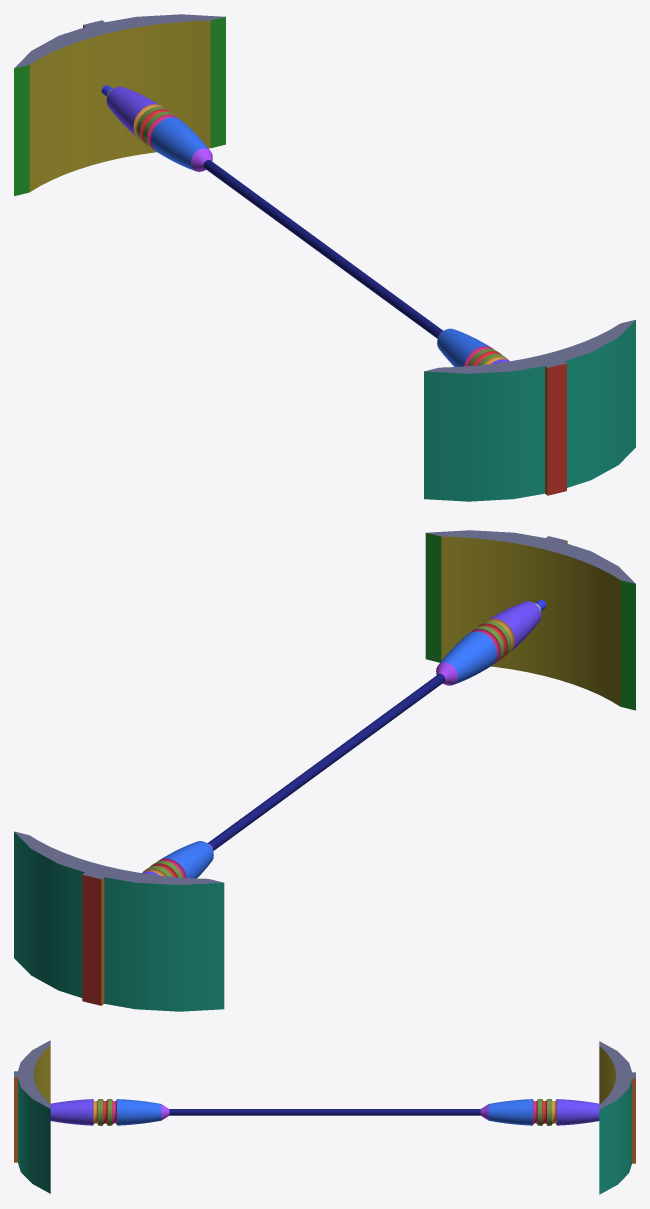
The model's file is iter2barColor.fbx.
3 renders of one model, top to bottom at view 1: azimuth 30°, elevation 25°; view 2: azimuth 150°, elevation 25°; view 3: azimuth 270°, elevation 25°, orthographic. The views are drawn at different scales.
Parts seen in each view (by area): view 1: Model; view 2: Model; view 3: Model.
Part boxes in pixels (x1,y1,x2,y2): Model: [14, 14, 635, 501]; Model: [14, 530, 635, 1011]; Model: [14, 1040, 635, 1194].
Bounding box in the file's own units: 632 × 359 × 2382.
